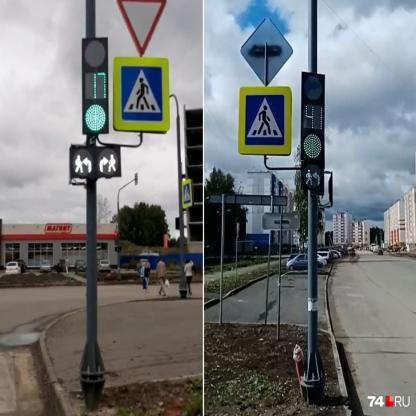road_sign: (114, 58, 170, 131), (239, 86, 291, 154), (117, 0, 167, 57), (182, 179, 192, 208)
traffic light: (83, 39, 108, 133), (301, 73, 325, 161), (70, 146, 121, 177), (301, 162, 323, 190)
